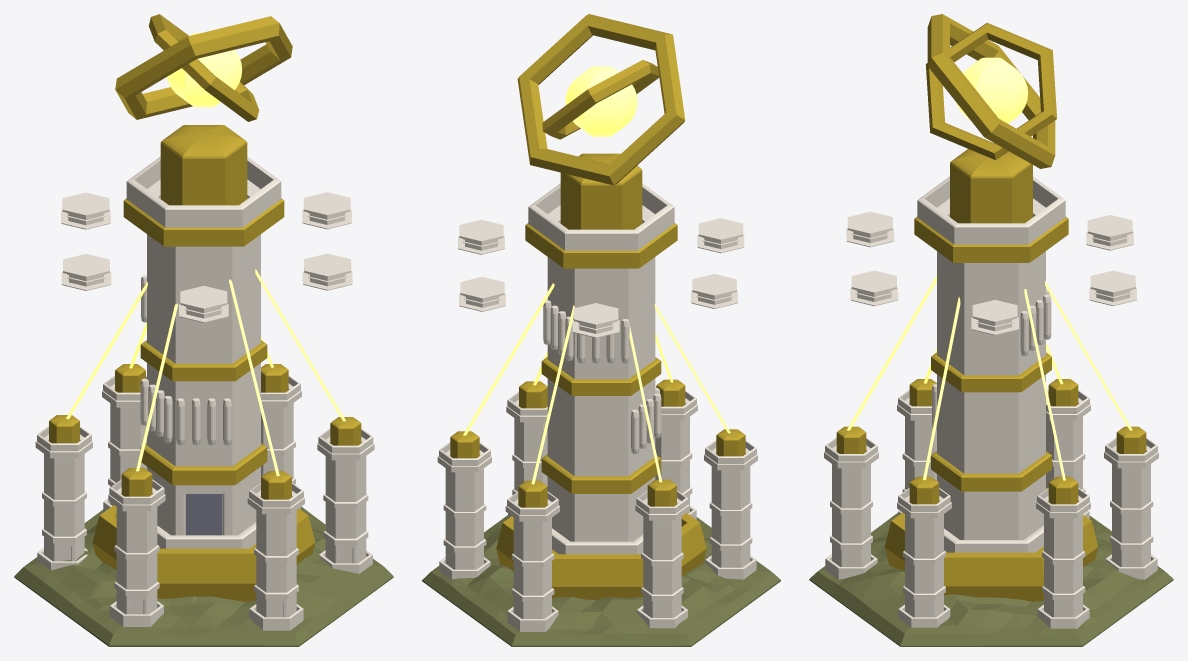
The model's file is hyperstructure_final.glb.
3 views of the same model, side by side, from view 1: azimuth 30°, elevation 25°; view 2: azimuth 150°, elevation 25°; view 3: azimuth 270°, elevation 25° (orthographic). The views are drawn at different scales.
Visible parts, largest first — view 1: building, land, big_details; view 2: building, land, big_details; view 3: building, land, big_details.
Part boxes in pixels (<box>): building: <box>35,14,374,630</box>; land: <box>14,506,393,646</box>; big_details: <box>66,269,345,476</box>; building: <box>437,14,757,631</box>; land: <box>422,515,780,646</box>; big_details: <box>463,283,730,484</box>; building: <box>824,14,1158,628</box>; land: <box>809,512,1173,646</box>; big_details: <box>847,275,1132,480</box>.
Size of the model in its own units: 1.79 by 3.31 by 2.
